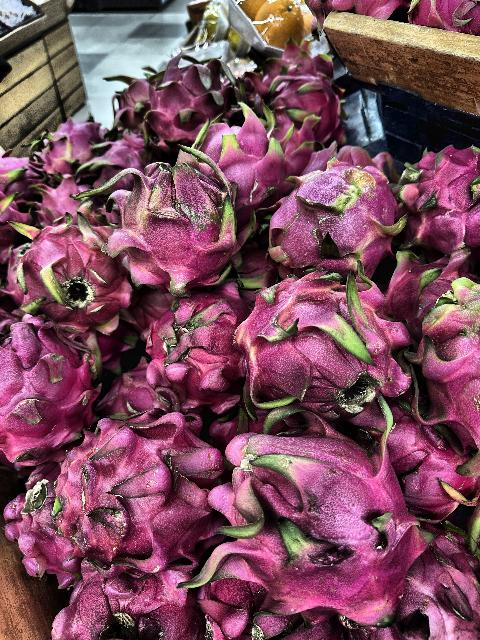buah-naga-matang: (212, 412, 434, 620), (48, 410, 216, 562), (232, 276, 409, 416), (97, 162, 257, 290), (264, 154, 400, 274), (1, 310, 104, 466), (0, 212, 130, 320), (137, 286, 249, 408), (410, 282, 480, 443), (57, 566, 207, 640), (193, 112, 298, 215), (1, 462, 77, 592), (392, 148, 480, 252), (250, 49, 344, 144), (142, 58, 230, 140), (402, 554, 480, 640), (103, 358, 185, 419), (86, 133, 158, 185), (28, 171, 93, 225), (35, 116, 105, 166), (101, 71, 155, 129)
